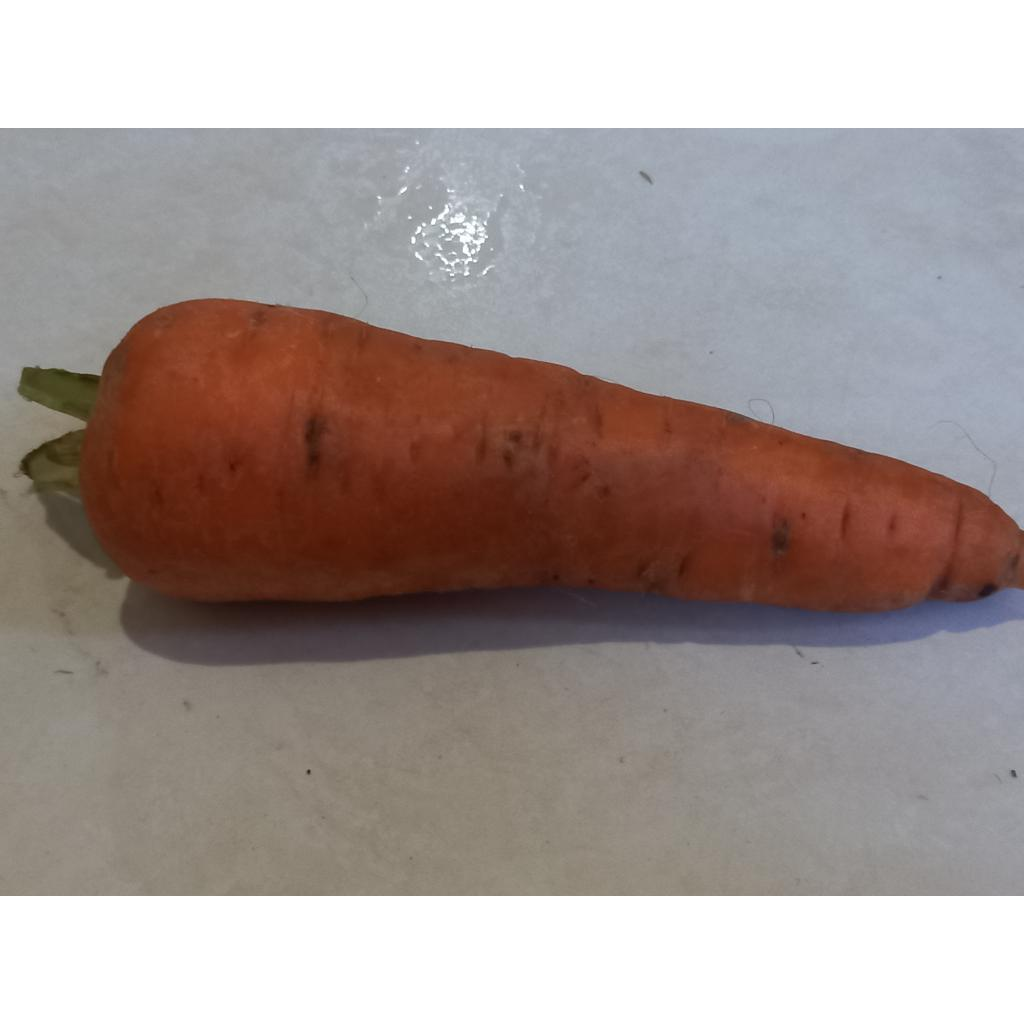carrot: (80, 300, 1024, 612)
